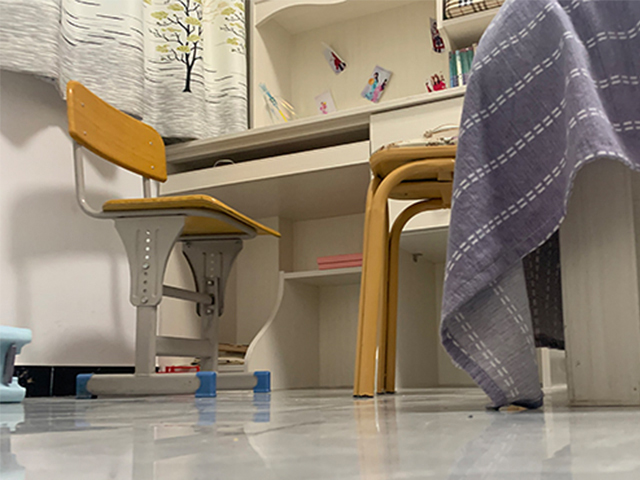bed: (453, 1, 640, 414)
stool: (64, 79, 280, 397), (352, 136, 462, 399)
table: (158, 85, 468, 381)
